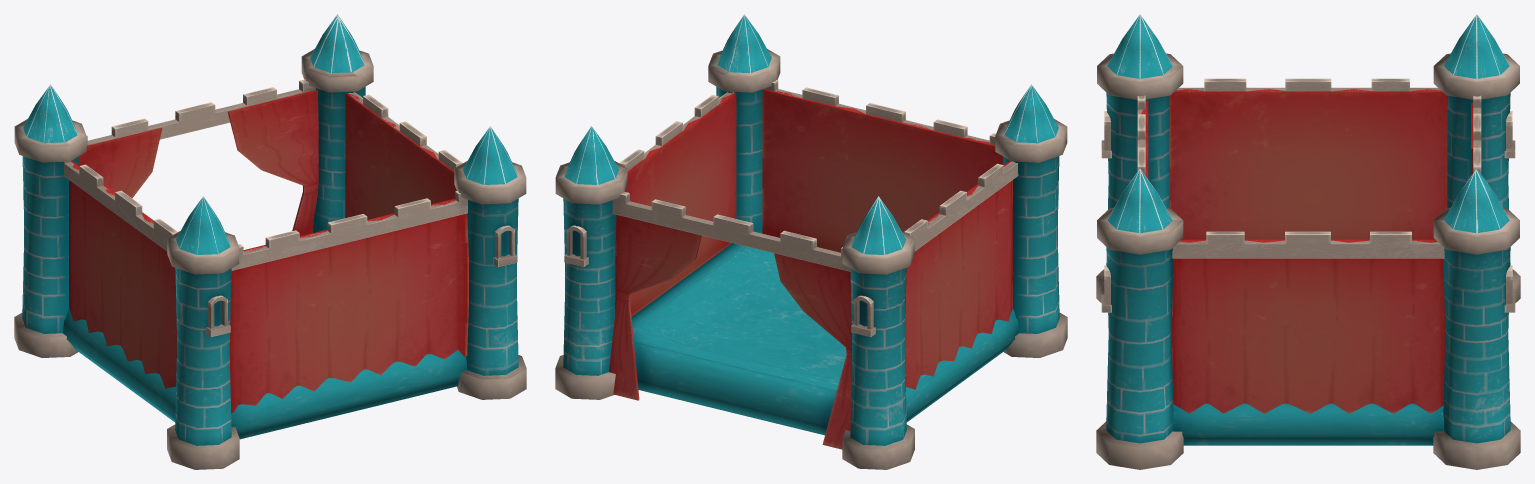
Rendered from Bouncy_Triangulated.fbx.
3 renders of one model, left to right at view 1: azimuth 30°, elevation 25°; view 2: azimuth 150°, elevation 25°; view 3: azimuth 270°, elevation 25°, orthographic. The views are drawn at different scales.
Visible parts, largest first — view 1: Curtains, towers1, molding, bottomcushion; view 2: Curtains, towers1, bottomcushion, molding; view 3: Curtains, towers1, bottomcushion, molding.
Boxes of the visible parts, left/top/right/bottom form: Curtains: left=69, top=90, right=468, bottom=413; towers1: left=14, top=14, right=526, bottom=469; molding: left=63, top=79, right=467, bottom=270; bottomcushion: left=62, top=309, right=467, bottom=439; Curtains: left=609, top=89, right=1012, bottom=449; towers1: left=555, top=14, right=1067, bottom=469; bottomcushion: left=631, top=243, right=1019, bottom=435; molding: left=612, top=80, right=1018, bottom=271; Curtains: left=1137, top=89, right=1473, bottom=413; towers1: left=1096, top=14, right=1520, bottom=469; bottomcushion: left=1172, top=403, right=1444, bottom=445; molding: left=1137, top=78, right=1481, bottom=258.
Bounding box in the file's own units: 722 × 509 × 687.
Materials: 3 (3 with a texture image).
